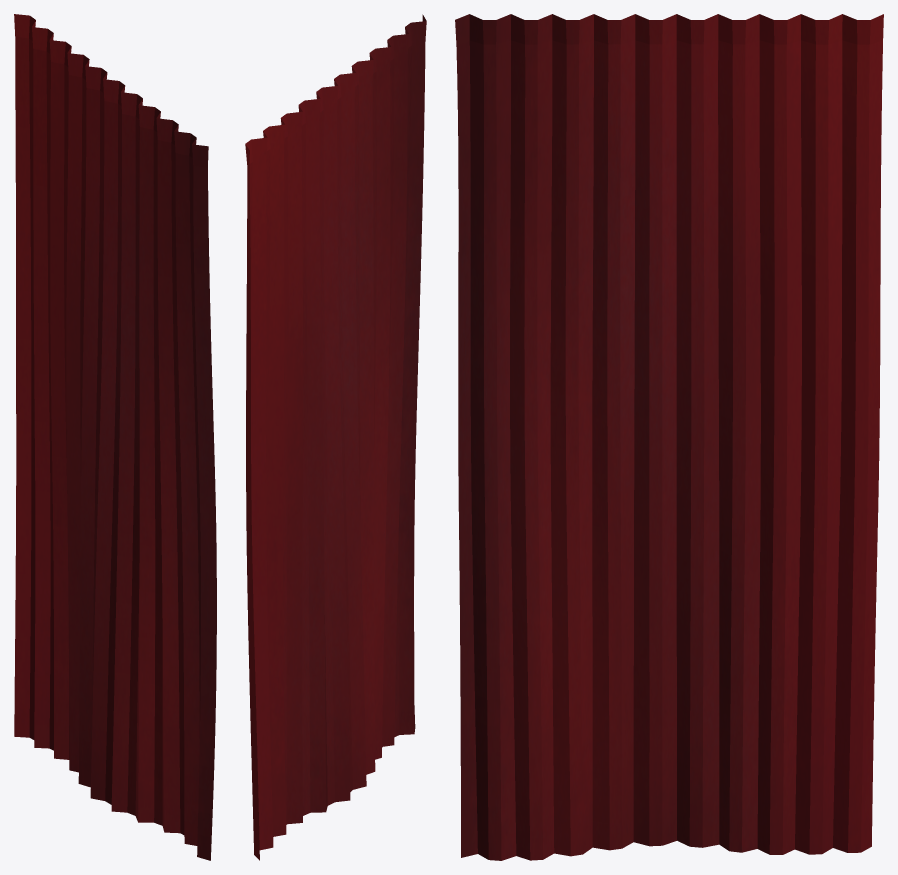
File: F_Curtain_3.fbx
3 renders of one model, left to right at view 1: azimuth 30°, elevation 25°; view 2: azimuth 150°, elevation 25°; view 3: azimuth 270°, elevation 25°, orthographic. The views are drawn at different scales.
Visible parts, largest first — view 1: F_Curtain_3; view 2: F_Curtain_3; view 3: F_Curtain_3.
Boxes of the visible parts, bbox=[...] form: F_Curtain_3: bbox=[14, 14, 216, 860]; F_Curtain_3: bbox=[245, 14, 426, 860]; F_Curtain_3: bbox=[455, 14, 883, 860].
Bounding box in the file's own units: 4.2 × 9.02 × 0.4395.
1 material, 1 textured.
